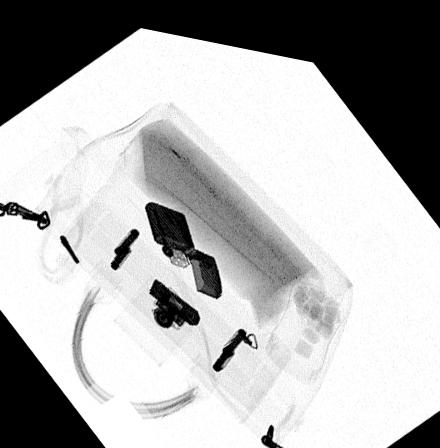Lighter: (144, 195, 222, 290)
